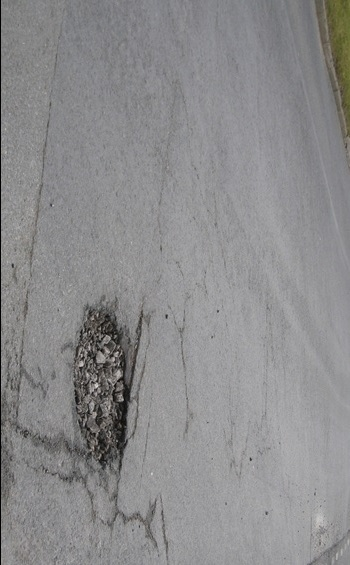pothole: (75, 306, 134, 456)
